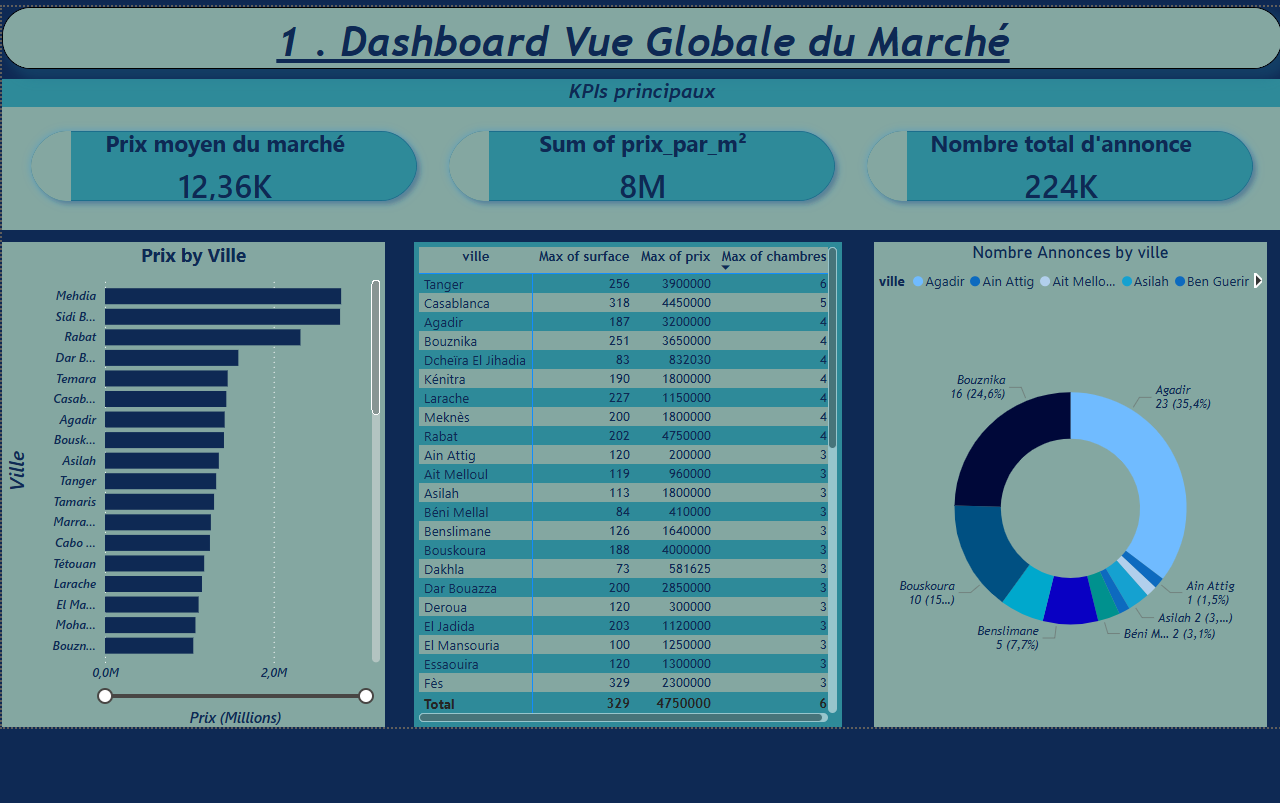

The dashboard page shown, as its layout file describes it:
{"tool":"powerbi","page":{"name":"Vue Globale du Marché","canvas":[1280,720],"ordinal":0},"visuals":[{"type":"clusteredBarChart","fields":{"Category":["bi_schema regions.ville"],"Y":["Avg(bi_schema fact_avito.prix)"]},"box":[0,235,383,485],"z":0},{"type":"cardVisual","title":"KPIs principaux","fields":{"Data":["bi_schema fact_avito.Prix Moyen","Sum(bi_schema fact_avito.prix_par_m2)","Sum(bi_schema fact_avito.avito_id)"]},"box":[0,72,1280,151],"z":1000},{"type":"textbox","title":"1 . Dashboard   Vue Globale du Marché","box":[0,0,1280,62],"z":2000},{"type":"donutChart","fields":{"Series":["bi_schema regions.ville"],"Y":["bi_schema fact_avito.Nombre Annonces"]},"box":[872,235,393,485],"z":3000},{"type":"pivotTable","fields":{"Rows":["bi_schema regions.ville"],"Values":["Max(bi_schema fact_avito.surface)","Max(bi_schema fact_avito.prix)","Max(bi_schema fact_avito.chambres)"]},"box":[412,235,428,485],"z":4000}]}

Visuals, with their boxes in screenshot pixels (x1, y1, x2, y2):
clusteredBarChart - bi_schema regions.ville x Avg(bi_schema fact_avito.prix): 7 235 384 713
"KPIs principaux" cardVisual: 7 74 1269 223
"1 . Dashboard   Vue Globale du Marché" textbox: 7 3 1269 64
donutChart - bi_schema regions.ville x bi_schema fact_avito.Nombre Annonces: 867 235 1254 713
pivotTable - bi_schema regions.ville x Max(bi_schema fact_avito.surface): 413 235 835 713
